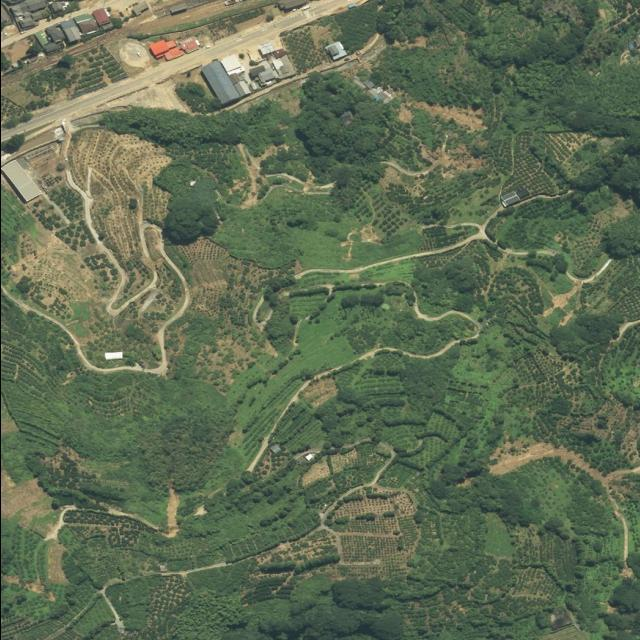landslide: (488, 441, 640, 487), (408, 100, 486, 131)
